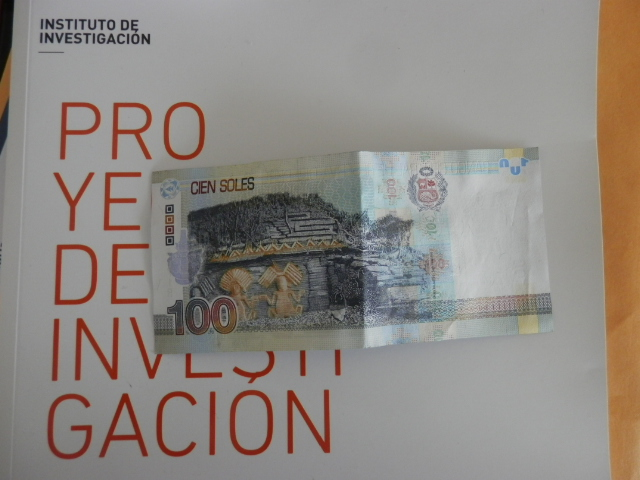B100: (139, 144, 570, 345)
